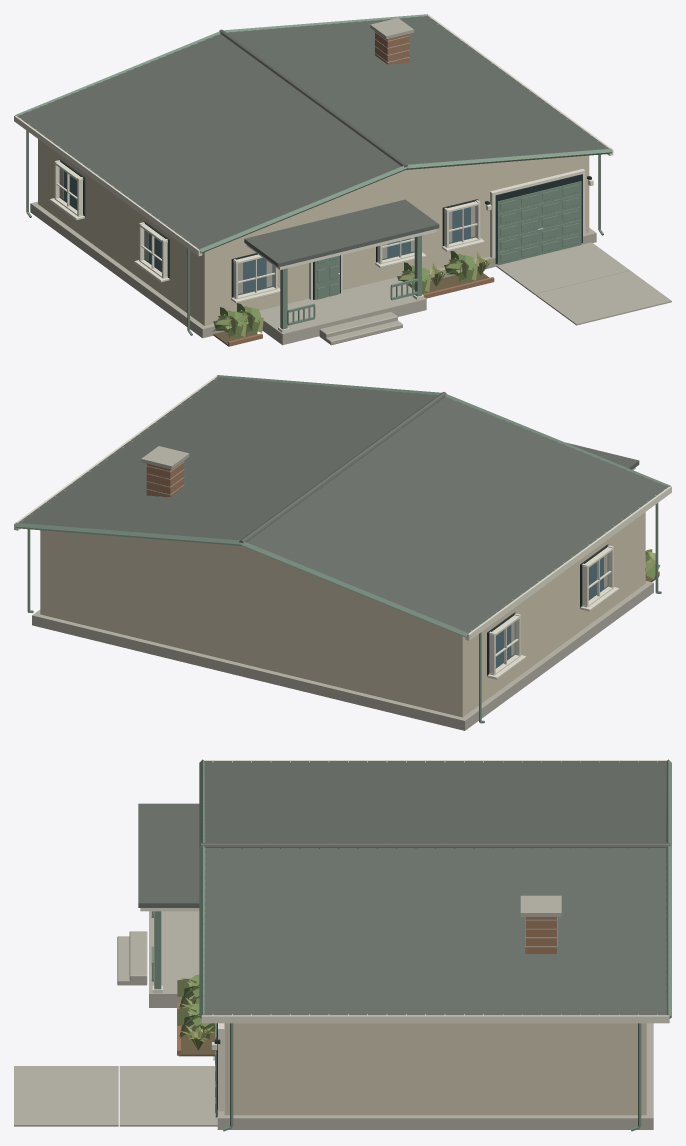
Rendered from house-0.glb.
The picture shows the model from 3 angles, top to bottom: view 1: azimuth 30°, elevation 25°; view 2: azimuth 150°, elevation 25°; view 3: azimuth 270°, elevation 25°; orthographic projection. The views are drawn at different scales.
Parts seen in each view (by area): view 1: shingle, stucco, concrete, sage, ivory, roof-edge, window-glazing, window-interior, foliage, terracotta, foliage-light, garden-soil; view 2: shingle, stucco, concrete, roof-edge, sage, ivory, terracotta, window-glazing; view 3: shingle, stucco, concrete, roof-edge, ivory, sage, terracotta, foliage, foliage-light, garden-soil.
Part boxes in pixels (x1,y1,x2,y2): shingle: [17, 15, 609, 267]; stucco: [38, 139, 589, 325]; concrete: [30, 18, 671, 345]; sage: [15, 14, 612, 335]; ivory: [14, 14, 613, 332]; roof-edge: [23, 18, 602, 246]; window-glazing: [59, 168, 475, 295]; window-interior: [59, 159, 582, 299]; foliage: [212, 251, 474, 339]; terracotta: [228, 31, 494, 346]; foliage-light: [214, 260, 477, 336]; garden-soil: [213, 270, 489, 346]; shingle: [18, 376, 668, 633]; stucco: [40, 512, 645, 717]; concrete: [32, 446, 653, 730]; roof-edge: [25, 380, 662, 629]; sage: [14, 375, 670, 723]; ivory: [14, 375, 671, 679]; terracotta: [146, 461, 659, 576]; window-glazing: [495, 554, 608, 668]; shingle: [138, 761, 666, 1015]; stucco: [224, 1023, 646, 1115]; concrete: [14, 895, 653, 1129]; roof-edge: [201, 763, 670, 1013]; ivory: [140, 760, 669, 1111]; sage: [151, 759, 671, 1131]; terracotta: [177, 917, 556, 1055]; foliage: [179, 974, 214, 1036]; foliage-light: [177, 978, 214, 1039]; garden-soil: [179, 1006, 214, 1056].
Bounding box in the file's own units: 17.25 × 5.58 × 18.71.
